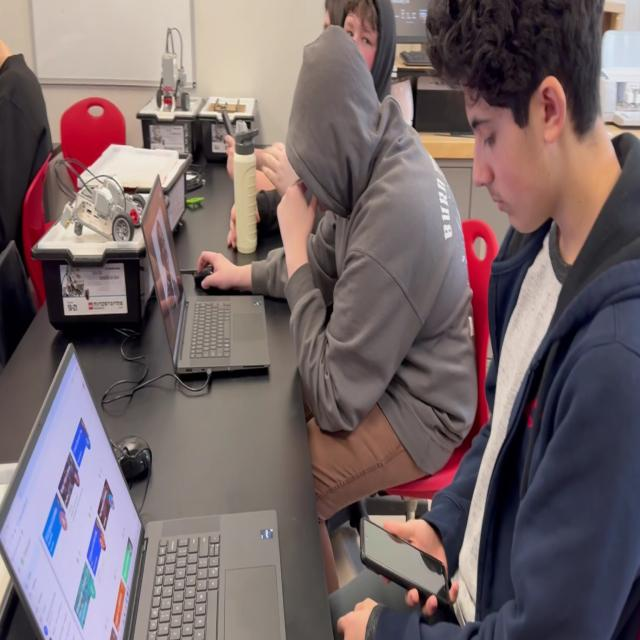pen: (359, 516, 453, 612), (222, 108, 239, 154)
